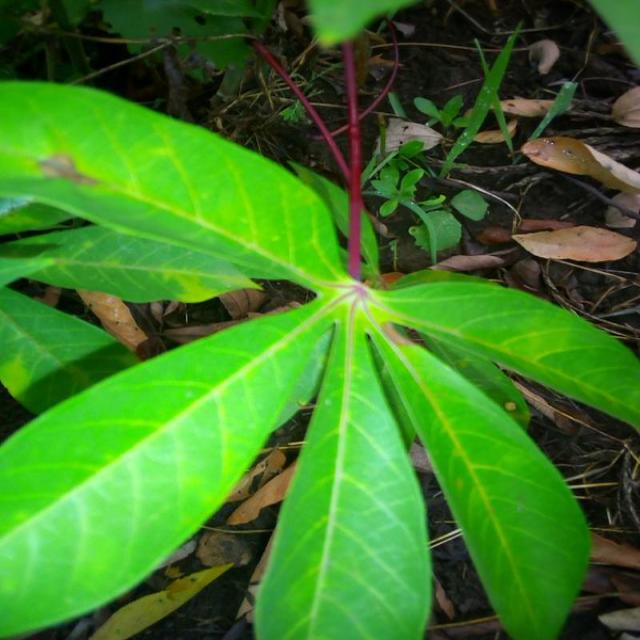cassava leaf: (0, 69, 638, 637), (0, 77, 352, 302)
